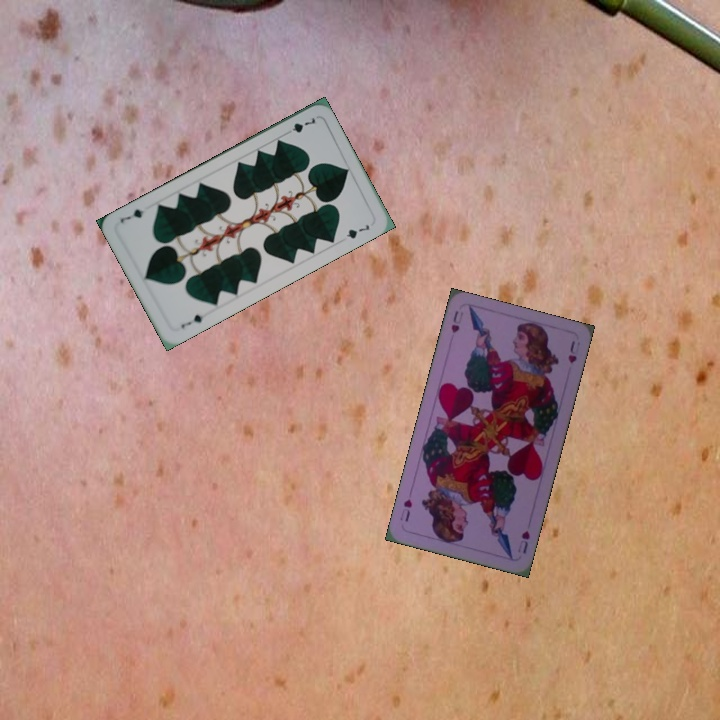G7: (280, 113, 318, 138), (177, 310, 206, 331)
HU: (513, 526, 532, 556), (447, 307, 466, 336)
